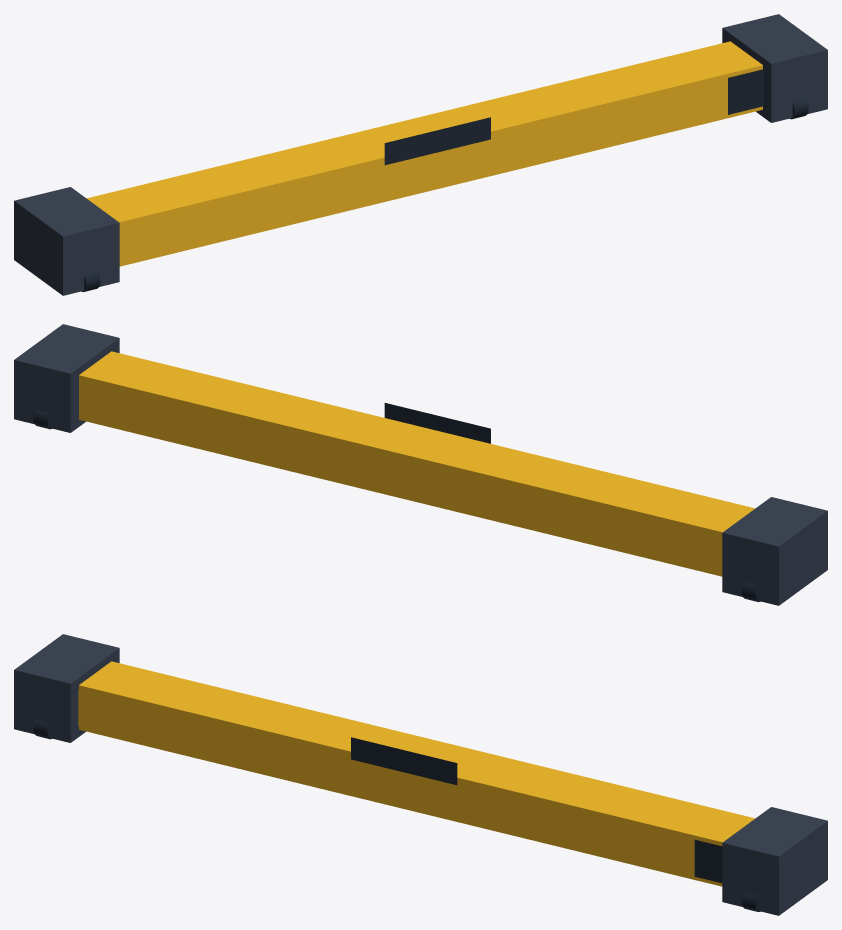
File: yard-crane-body-authored-atlas.glb
The picture shows the model from 3 angles, top to bottom: view 1: azimuth 30°, elevation 25°; view 2: azimuth 150°, elevation 25°; view 3: azimuth 330°, elevation 25°; orthographic projection.
Parts seen in each view (by area): view 1: Authored surface.032; view 2: Authored surface.032; view 3: Authored surface.032.
Part boxes in pixels (x1,y1,x2,y2): Authored surface.032: (14,14,827,295); Authored surface.032: (14,324,827,605); Authored surface.032: (14,634,827,915).
Bounding box in the file's own units: 10.8 × 0.95 × 1.3.
1 material, 1 textured.
